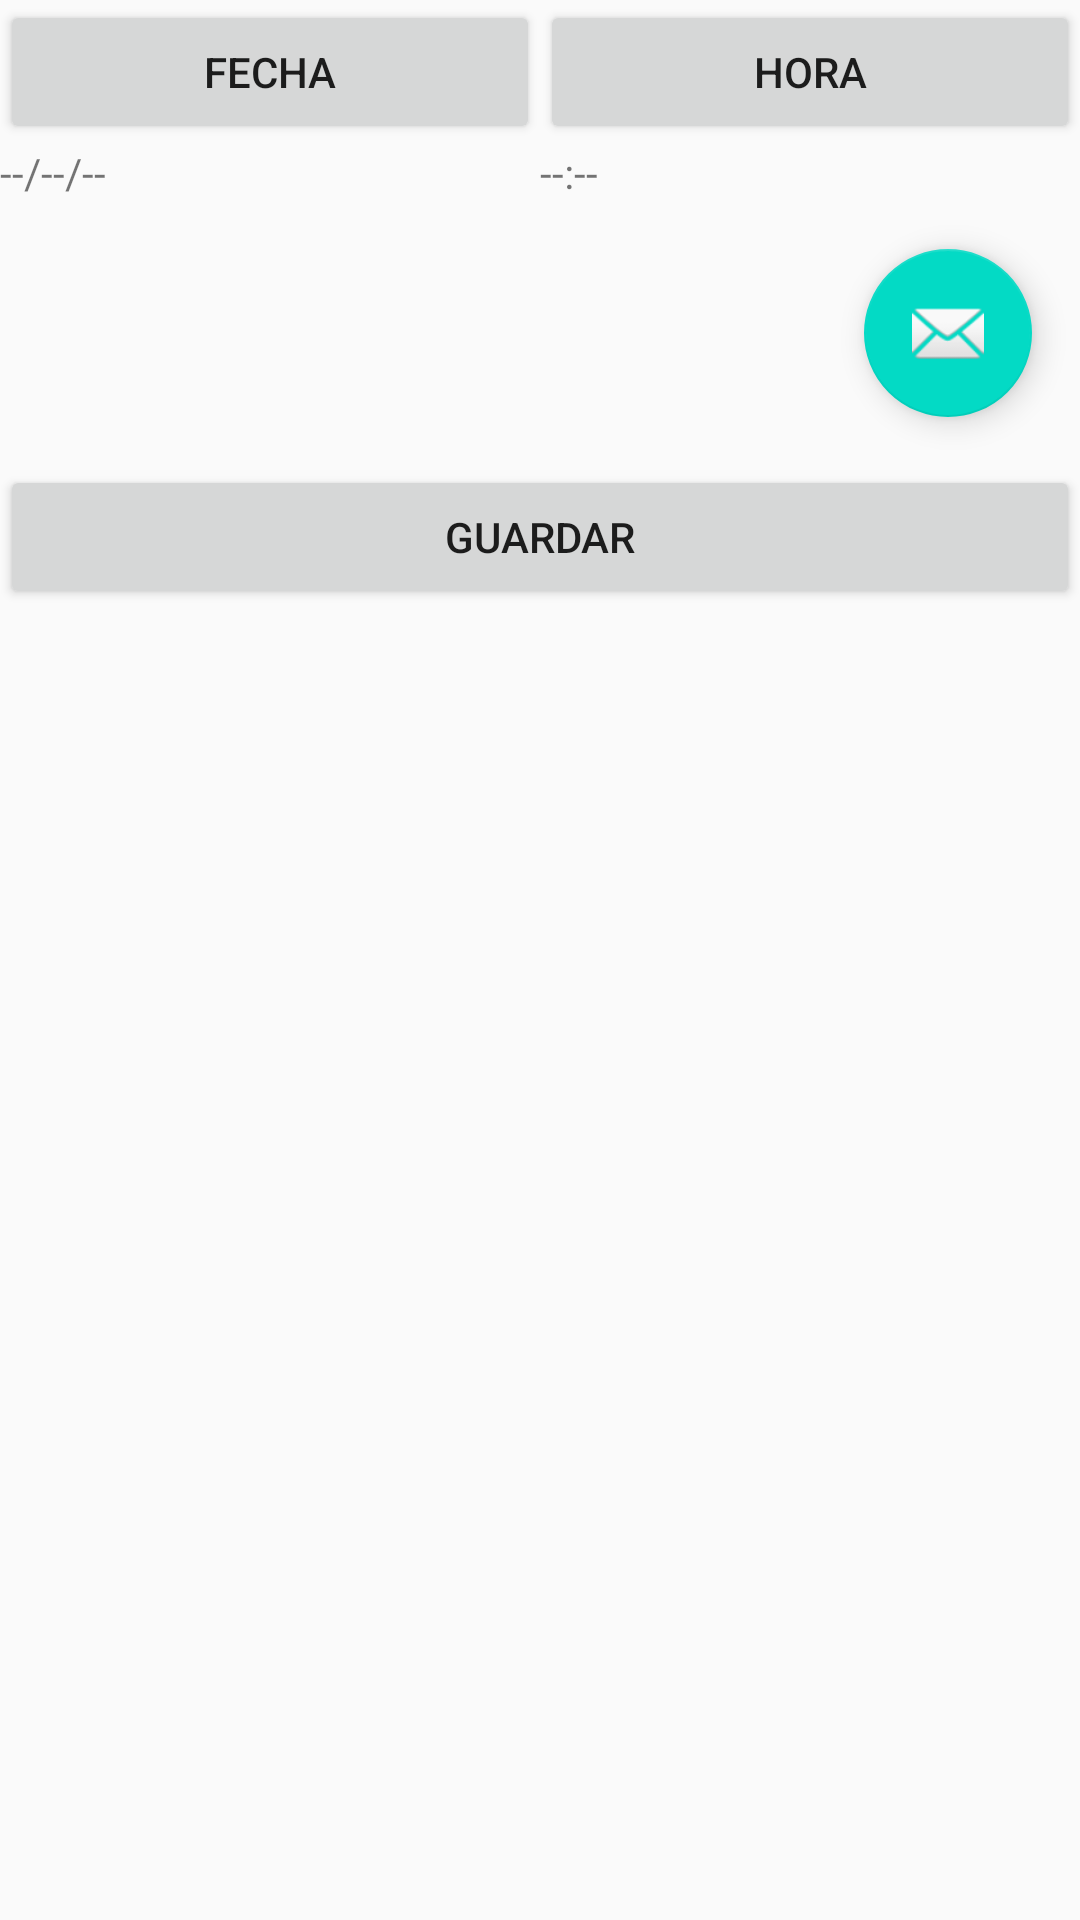

Screen size 1080*1920. Icon name, then its box in pixels as (x1, y1, x2, y2):
email: (864, 249, 1032, 417)
